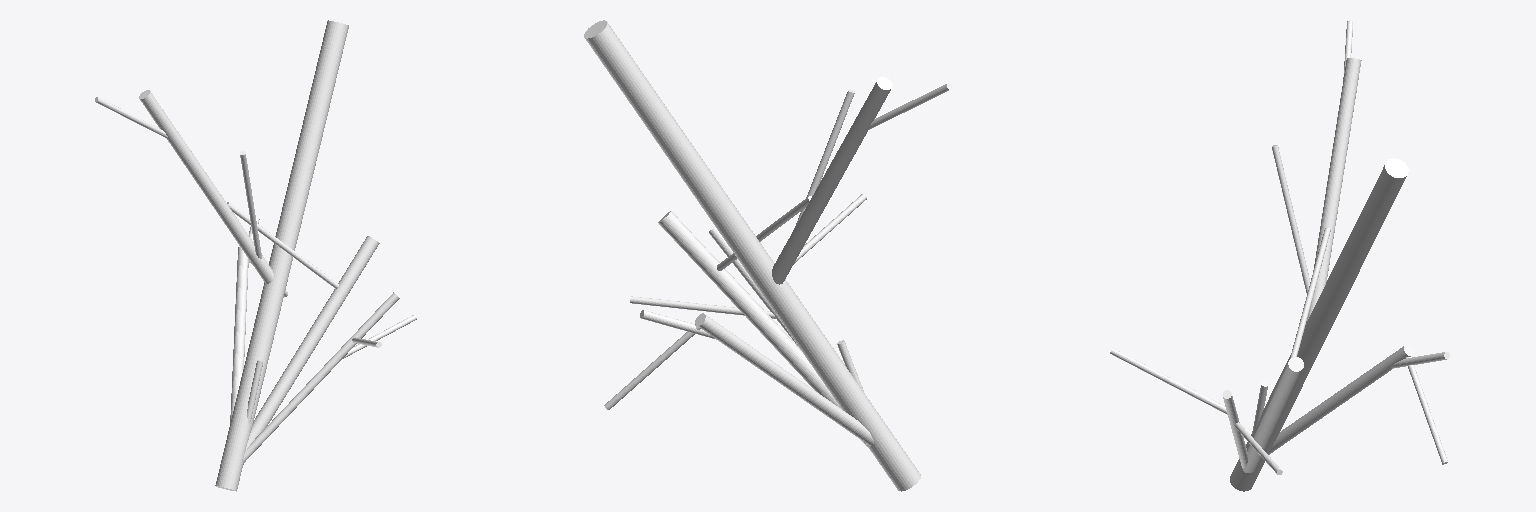
The robot description file, URDF, robot "tree_5.urdf":
<?xml version='1.0' encoding='UTF-8'?>
<robot name="tree_5.urdf">
  <link name="branch_0">
    <inertial>
      <origin xyz="0.0 0.0 0.0" rpy="0.0 -0.0 0.0"/>
      <mass value="1.0"/>
      <inertia ixx="1.0" ixy="0.0" ixz="0.0" iyy="1.0" iyz="0.0" izz="1.0"/>
    </inertial>
    <visual name="branch_0_visual">
      <geometry>
        <cylinder radius="0.15604219083025045" length="6.729564948536225"/>
      </geometry>
      <material name="branch_material"/>
      <origin xyz="1.4734645686344185 0.9773562234509007 2.8627675554614322" rpy="-1.387791622761777e-16 0.5532845044622839 0.5856715929503155"/>
    </visual>
    <collision name="branch_0_collision">
      <geometry>
        <cylinder radius="0.15604219083025045" length="6.729564948536225"/>
      </geometry>
      <origin xyz="1.4734645686344185 0.9773562234509007 2.8627675554614322" rpy="-1.387791622761777e-16 0.5532845044622839 0.5856715929503155"/>
    </collision>
  </link>
  <link name="branch_1">
    <inertial>
      <origin xyz="0.0 0.0 0.0" rpy="0.0 -0.0 0.0"/>
      <mass value="1.0"/>
      <inertia ixx="1.0" ixy="0.0" ixz="0.0" iyy="1.0" iyz="0.0" izz="1.0"/>
    </inertial>
    <visual name="branch_1_visual">
      <geometry>
        <cylinder radius="0.09402082446735349" length="3.6576975477236635"/>
      </geometry>
      <material name="branch_material"/>
      <origin xyz="0.0 0.0 0.0" rpy="0.0 -0.0 0.0"/>
    </visual>
    <collision name="branch_1_collision">
      <geometry>
        <cylinder radius="0.09402082446735349" length="3.6576975477236635"/>
      </geometry>
      <origin xyz="0.0 0.0 0.0" rpy="0.0 -0.0 0.0"/>
    </collision>
  </link>
  <link name="branch_2">
    <inertial>
      <origin xyz="0.0 0.0 0.0" rpy="0.0 -0.0 0.0"/>
      <mass value="1.0"/>
      <inertia ixx="1.0" ixy="0.0" ixz="0.0" iyy="1.0" iyz="0.0" izz="1.0"/>
    </inertial>
    <visual name="branch_2_visual">
      <geometry>
        <cylinder radius="0.04149628175596134" length="2.188867627097334"/>
      </geometry>
      <material name="branch_material"/>
      <origin xyz="0.0 0.0 0.0" rpy="0.0 -0.0 0.0"/>
    </visual>
    <collision name="branch_2_collision">
      <geometry>
        <cylinder radius="0.04149628175596134" length="2.188867627097334"/>
      </geometry>
      <origin xyz="0.0 0.0 0.0" rpy="0.0 -0.0 0.0"/>
    </collision>
  </link>
  <link name="branch_3">
    <inertial>
      <origin xyz="0.0 0.0 0.0" rpy="0.0 -0.0 0.0"/>
      <mass value="1.0"/>
      <inertia ixx="1.0" ixy="0.0" ixz="0.0" iyy="1.0" iyz="0.0" izz="1.0"/>
    </inertial>
    <visual name="branch_3_visual">
      <geometry>
        <cylinder radius="0.040741351670848296" length="1.512862773321963"/>
      </geometry>
      <material name="branch_material"/>
      <origin xyz="0.0 0.0 0.0" rpy="0.0 -0.0 0.0"/>
    </visual>
    <collision name="branch_3_collision">
      <geometry>
        <cylinder radius="0.040741351670848296" length="1.512862773321963"/>
      </geometry>
      <origin xyz="0.0 0.0 0.0" rpy="0.0 -0.0 0.0"/>
    </collision>
  </link>
  <link name="branch_4">
    <inertial>
      <origin xyz="0.0 0.0 0.0" rpy="0.0 -0.0 0.0"/>
      <mass value="1.0"/>
      <inertia ixx="1.0" ixy="0.0" ixz="0.0" iyy="1.0" iyz="0.0" izz="1.0"/>
    </inertial>
    <visual name="branch_4_visual">
      <geometry>
        <cylinder radius="0.060019846373268605" length="3.398694816515344"/>
      </geometry>
      <material name="branch_material"/>
      <origin xyz="0.0 0.0 0.0" rpy="0.0 -0.0 0.0"/>
    </visual>
    <collision name="branch_4_collision">
      <geometry>
        <cylinder radius="0.060019846373268605" length="3.398694816515344"/>
      </geometry>
      <origin xyz="0.0 0.0 0.0" rpy="0.0 -0.0 0.0"/>
    </collision>
  </link>
  <link name="branch_5">
    <inertial>
      <origin xyz="0.0 0.0 0.0" rpy="0.0 -0.0 0.0"/>
      <mass value="1.0"/>
      <inertia ixx="1.0" ixy="0.0" ixz="0.0" iyy="1.0" iyz="0.0" izz="1.0"/>
    </inertial>
    <visual name="branch_5_visual">
      <geometry>
        <cylinder radius="0.04" length="1.7230033549046246"/>
      </geometry>
      <material name="branch_material"/>
      <origin xyz="0.0 0.0 0.0" rpy="0.0 -0.0 0.0"/>
    </visual>
    <collision name="branch_5_collision">
      <geometry>
        <cylinder radius="0.04" length="1.7230033549046246"/>
      </geometry>
      <origin xyz="0.0 0.0 0.0" rpy="0.0 -0.0 0.0"/>
    </collision>
  </link>
  <link name="branch_6">
    <inertial>
      <origin xyz="0.0 0.0 0.0" rpy="0.0 -0.0 0.0"/>
      <mass value="1.0"/>
      <inertia ixx="1.0" ixy="0.0" ixz="0.0" iyy="1.0" iyz="0.0" izz="1.0"/>
    </inertial>
    <visual name="branch_6_visual">
      <geometry>
        <cylinder radius="0.04" length="1.713308201713395"/>
      </geometry>
      <material name="branch_material"/>
      <origin xyz="0.0 0.0 0.0" rpy="0.0 -0.0 0.0"/>
    </visual>
    <collision name="branch_6_collision">
      <geometry>
        <cylinder radius="0.04" length="1.713308201713395"/>
      </geometry>
      <origin xyz="0.0 0.0 0.0" rpy="0.0 -0.0 0.0"/>
    </collision>
  </link>
  <link name="branch_7">
    <inertial>
      <origin xyz="0.0 0.0 0.0" rpy="0.0 -0.0 0.0"/>
      <mass value="1.0"/>
      <inertia ixx="1.0" ixy="0.0" ixz="0.0" iyy="1.0" iyz="0.0" izz="1.0"/>
    </inertial>
    <visual name="branch_7_visual">
      <geometry>
        <cylinder radius="0.10107985935825615" length="3.8897105338795743"/>
      </geometry>
      <material name="branch_material"/>
      <origin xyz="0.0 0.0 0.0" rpy="0.0 -0.0 0.0"/>
    </visual>
    <collision name="branch_7_collision">
      <geometry>
        <cylinder radius="0.10107985935825615" length="3.8897105338795743"/>
      </geometry>
      <origin xyz="0.0 0.0 0.0" rpy="0.0 -0.0 0.0"/>
    </collision>
  </link>
  <link name="branch_8">
    <inertial>
      <origin xyz="0.0 0.0 0.0" rpy="0.0 -0.0 0.0"/>
      <mass value="1.0"/>
      <inertia ixx="1.0" ixy="0.0" ixz="0.0" iyy="1.0" iyz="0.0" izz="1.0"/>
    </inertial>
    <visual name="branch_8_visual">
      <geometry>
        <cylinder radius="0.04" length="2.2112515533362536"/>
      </geometry>
      <material name="branch_material"/>
      <origin xyz="0.0 0.0 0.0" rpy="0.0 -0.0 0.0"/>
    </visual>
    <collision name="branch_8_collision">
      <geometry>
        <cylinder radius="0.04" length="2.2112515533362536"/>
      </geometry>
      <origin xyz="0.0 0.0 0.0" rpy="0.0 -0.0 0.0"/>
    </collision>
  </link>
  <link name="branch_9">
    <inertial>
      <origin xyz="0.0 0.0 0.0" rpy="0.0 -0.0 0.0"/>
      <mass value="1.0"/>
      <inertia ixx="1.0" ixy="0.0" ixz="0.0" iyy="1.0" iyz="0.0" izz="1.0"/>
    </inertial>
    <visual name="branch_9_visual">
      <geometry>
        <cylinder radius="0.04591254557980001" length="1.3863007277479547"/>
      </geometry>
      <material name="branch_material"/>
      <origin xyz="0.0 0.0 0.0" rpy="0.0 -0.0 0.0"/>
    </visual>
    <collision name="branch_9_collision">
      <geometry>
        <cylinder radius="0.04591254557980001" length="1.3863007277479547"/>
      </geometry>
      <origin xyz="0.0 0.0 0.0" rpy="0.0 -0.0 0.0"/>
    </collision>
  </link>
  <link name="branch_10">
    <inertial>
      <origin xyz="0.0 0.0 0.0" rpy="0.0 -0.0 0.0"/>
      <mass value="1.0"/>
      <inertia ixx="1.0" ixy="0.0" ixz="0.0" iyy="1.0" iyz="0.0" izz="1.0"/>
    </inertial>
    <visual name="branch_10_visual">
      <geometry>
        <cylinder radius="0.07973772828008768" length="3.1400380704372646"/>
      </geometry>
      <material name="branch_material"/>
      <origin xyz="0.0 0.0 0.0" rpy="0.0 -0.0 0.0"/>
    </visual>
    <collision name="branch_10_collision">
      <geometry>
        <cylinder radius="0.07973772828008768" length="3.1400380704372646"/>
      </geometry>
      <origin xyz="0.0 0.0 0.0" rpy="0.0 -0.0 0.0"/>
    </collision>
  </link>
  <link name="branch_11">
    <inertial>
      <origin xyz="0.0 0.0 0.0" rpy="0.0 -0.0 0.0"/>
      <mass value="1.0"/>
      <inertia ixx="1.0" ixy="0.0" ixz="0.0" iyy="1.0" iyz="0.0" izz="1.0"/>
    </inertial>
    <visual name="branch_11_visual">
      <geometry>
        <cylinder radius="0.04" length="1.5406393686387134"/>
      </geometry>
      <material name="branch_material"/>
      <origin xyz="0.0 0.0 0.0" rpy="0.0 -0.0 0.0"/>
    </visual>
    <collision name="branch_11_collision">
      <geometry>
        <cylinder radius="0.04" length="1.5406393686387134"/>
      </geometry>
      <origin xyz="0.0 0.0 0.0" rpy="0.0 -0.0 0.0"/>
    </collision>
  </link>
  <link name="branch_12">
    <inertial>
      <origin xyz="0.0 0.0 0.0" rpy="0.0 -0.0 0.0"/>
      <mass value="1.0"/>
      <inertia ixx="1.0" ixy="0.0" ixz="0.0" iyy="1.0" iyz="0.0" izz="1.0"/>
    </inertial>
    <visual name="branch_12_visual">
      <geometry>
        <cylinder radius="0.05034201461468043" length="1.1028455580441687"/>
      </geometry>
      <material name="branch_material"/>
      <origin xyz="0.0 0.0 0.0" rpy="0.0 -0.0 0.0"/>
    </visual>
    <collision name="branch_12_collision">
      <geometry>
        <cylinder radius="0.05034201461468043" length="1.1028455580441687"/>
      </geometry>
      <origin xyz="0.0 0.0 0.0" rpy="0.0 -0.0 0.0"/>
    </collision>
  </link>
  <joint name="joint_0_1" type="fixed">
    <parent link="branch_0"/>
    <child link="branch_1"/>
    <axis xyz="1. 0. 0."/>
    <origin xyz="0.39296633939019154 1.1353565785036004 4.068344794897757" rpy="0.2866676116173529 0.4609615936210171 -2.863221931114019"/>
  </joint>
  <joint name="joint_0_4" type="fixed">
    <parent link="branch_0"/>
    <child link="branch_4"/>
    <axis xyz="1. 0. 0."/>
    <origin xyz="1.384871795425263 -0.054131921761397736 1.3317999797227682" rpy="-0.6512507582771518 0.5980048758974288 -1.034287617608807"/>
  </joint>
  <joint name="joint_0_7" type="fixed">
    <parent link="branch_0"/>
    <child link="branch_7"/>
    <axis xyz="1. 0. 0."/>
    <origin xyz="1.4390712108914046 0.37529487720637206 1.555082081425379" rpy="-0.5301590953916193 0.6149071016137376 -0.5650561645761387"/>
  </joint>
  <joint name="joint_0_10" type="fixed">
    <parent link="branch_0"/>
    <child link="branch_10"/>
    <axis xyz="1. 0. 0."/>
    <origin xyz="0.8602856224009194 1.1251069520971388 1.47405242643297" rpy="0.5541023422001561 0.66955638153097 1.775522108551978"/>
  </joint>
  <joint name="joint_1_2" type="fixed">
    <parent link="branch_0"/>
    <child link="branch_2"/>
    <axis xyz="1. 0. 0."/>
    <origin xyz="0.7969858458419067 0.6666261933983687 3.8797673666458996" rpy="0.3524834624380198 0.038755534317728456 -0.9573930257295785"/>
  </joint>
  <joint name="joint_1_3" type="fixed">
    <parent link="branch_0"/>
    <child link="branch_3"/>
    <axis xyz="1. 0. 0."/>
    <origin xyz="-0.6927909776802297 1.325809035822485 5.3360704077201655" rpy="0.37896263909548517 0.896695474923259 -2.7371603097741004"/>
  </joint>
  <joint name="joint_4_5" type="fixed">
    <parent link="branch_0"/>
    <child link="branch_5"/>
    <axis xyz="1. 0. 0."/>
    <origin xyz="1.7700983317215018 -0.8776669015798906 2.2039936767842243" rpy="-1.0680221300249393 0.6692086140735134 -3.116317649515817"/>
  </joint>
  <joint name="joint_4_6" type="fixed">
    <parent link="branch_0"/>
    <child link="branch_6"/>
    <axis xyz="1. 0. 0."/>
    <origin xyz="2.5326581426713908 0.1958720434243922 1.65602172595699" rpy="1.5027541779198423 1.1044229529126104 1.8481011010741961"/>
  </joint>
  <joint name="joint_7_8" type="fixed">
    <parent link="branch_0"/>
    <child link="branch_8"/>
    <axis xyz="1. 0. 0."/>
    <origin xyz="1.4238706312823954 0.8203619565801815 3.0714273333257562" rpy="0.39783412307600335 0.7612697144584462 -2.9255977608162005"/>
  </joint>
  <joint name="joint_7_9" type="fixed">
    <parent link="branch_0"/>
    <child link="branch_9"/>
    <axis xyz="1. 0. 0."/>
    <origin xyz="0.5078014388283791 0.20087214399304273 1.0371706761459378" rpy="0.10157293395744399 -0.3312026759976562 -3.042255619635333"/>
  </joint>
  <joint name="joint_10_11" type="fixed">
    <parent link="branch_0"/>
    <child link="branch_11"/>
    <axis xyz="1. 0. 0."/>
    <origin xyz="1.963614444121378 2.3178707664867435 1.939804196436167" rpy="-2.7870428474515574 0.7165117941139221 -2.156598613624321"/>
  </joint>
  <joint name="joint_10_12" type="fixed">
    <parent link="branch_0"/>
    <child link="branch_12"/>
    <axis xyz="1. 0. 0."/>
    <origin xyz="1.6493413537987107 2.2073281979844737 2.4485288798724825" rpy="-0.6082280795959641 1.0522077716042233 0.18034982200502994"/>
  </joint>
  <material name="branch_material">
    <color rgba="1. 1. 1. 1."/>
  </material>
</robot>

--- Facts derived from the render (not from the file) ---
3 views of the same robot in one strip: view 1: azimuth 30°, elevation 25°; view 2: azimuth 150°, elevation 25°; view 3: azimuth 270°, elevation 25° (orthographic).
Robot: tree_5.urdf — 13 links, 12 joints (12 fixed); root link branch_0; default pose: all joints at 0.
Visible links, largest first — view 1: branch_0, branch_7, branch_1, branch_4, branch_10, branch_8, branch_2; view 2: branch_0, branch_7, branch_1, branch_10, branch_2, branch_6, branch_11, branch_3, branch_4, branch_5, branch_8, branch_12; view 3: branch_0, branch_1, branch_10, branch_7, branch_2, branch_8, branch_5, branch_11, branch_4.
Boxes of the visible links, left/top/right/bottom form: branch_0: left=215, top=20, right=348, bottom=491; branch_7: left=243, top=236, right=379, bottom=464; branch_1: left=139, top=90, right=273, bottom=283; branch_4: left=243, top=292, right=399, bottom=462; branch_10: left=230, top=247, right=248, bottom=422; branch_8: left=227, top=202, right=338, bottom=288; branch_2: left=240, top=151, right=261, bottom=258; branch_0: left=584, top=20, right=920, bottom=491; branch_7: left=658, top=211, right=867, bottom=446; branch_1: left=772, top=77, right=892, bottom=284; branch_10: left=695, top=313, right=873, bottom=445; branch_2: left=794, top=89, right=854, bottom=228; branch_6: left=630, top=296, right=775, bottom=318; branch_11: left=604, top=324, right=700, bottom=409; branch_3: left=868, top=83, right=951, bottom=129; branch_4: left=709, top=227, right=797, bottom=345; branch_5: left=794, top=194, right=866, bottom=263; branch_8: left=717, top=196, right=811, bottom=270; branch_12: left=640, top=310, right=716, bottom=339; branch_0: left=1230, top=158, right=1408, bottom=491; branch_1: left=1306, top=58, right=1361, bottom=322; branch_10: left=1268, top=345, right=1413, bottom=454; branch_7: left=1242, top=357, right=1303, bottom=472; branch_2: left=1272, top=145, right=1309, bottom=292; branch_8: left=1290, top=228, right=1330, bottom=358; branch_5: left=1110, top=348, right=1227, bottom=414; branch_11: left=1405, top=357, right=1447, bottom=464; branch_4: left=1222, top=390, right=1247, bottom=467.
Size in the robot's own frame: 4.69 by 4.28 by 5.89 metres.
Geometry: primitives only (box / cylinder / sphere), no mesh files.